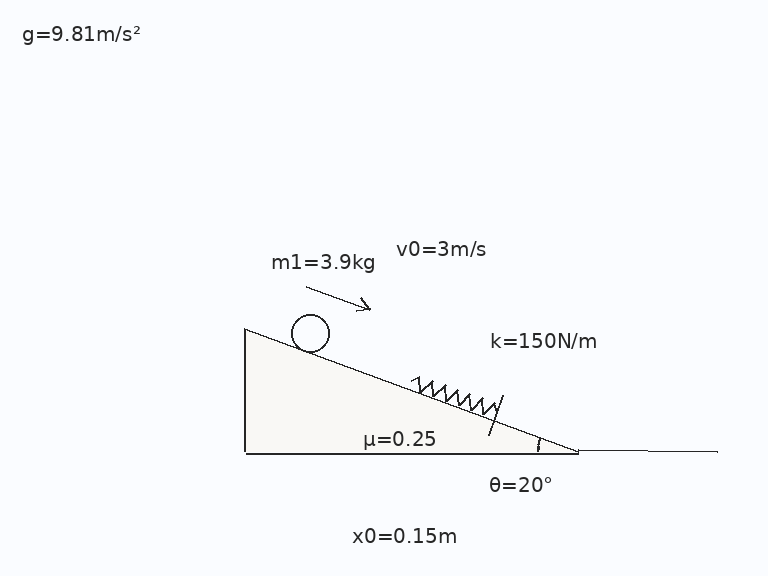ball: (289, 312, 331, 354)
ramp: (242, 328, 580, 453)
spring: (409, 374, 500, 416)
